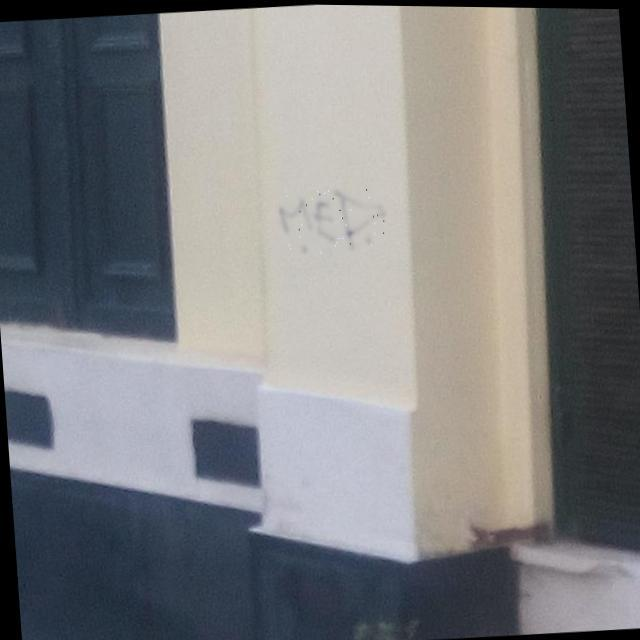-: (274, 183, 388, 256)
